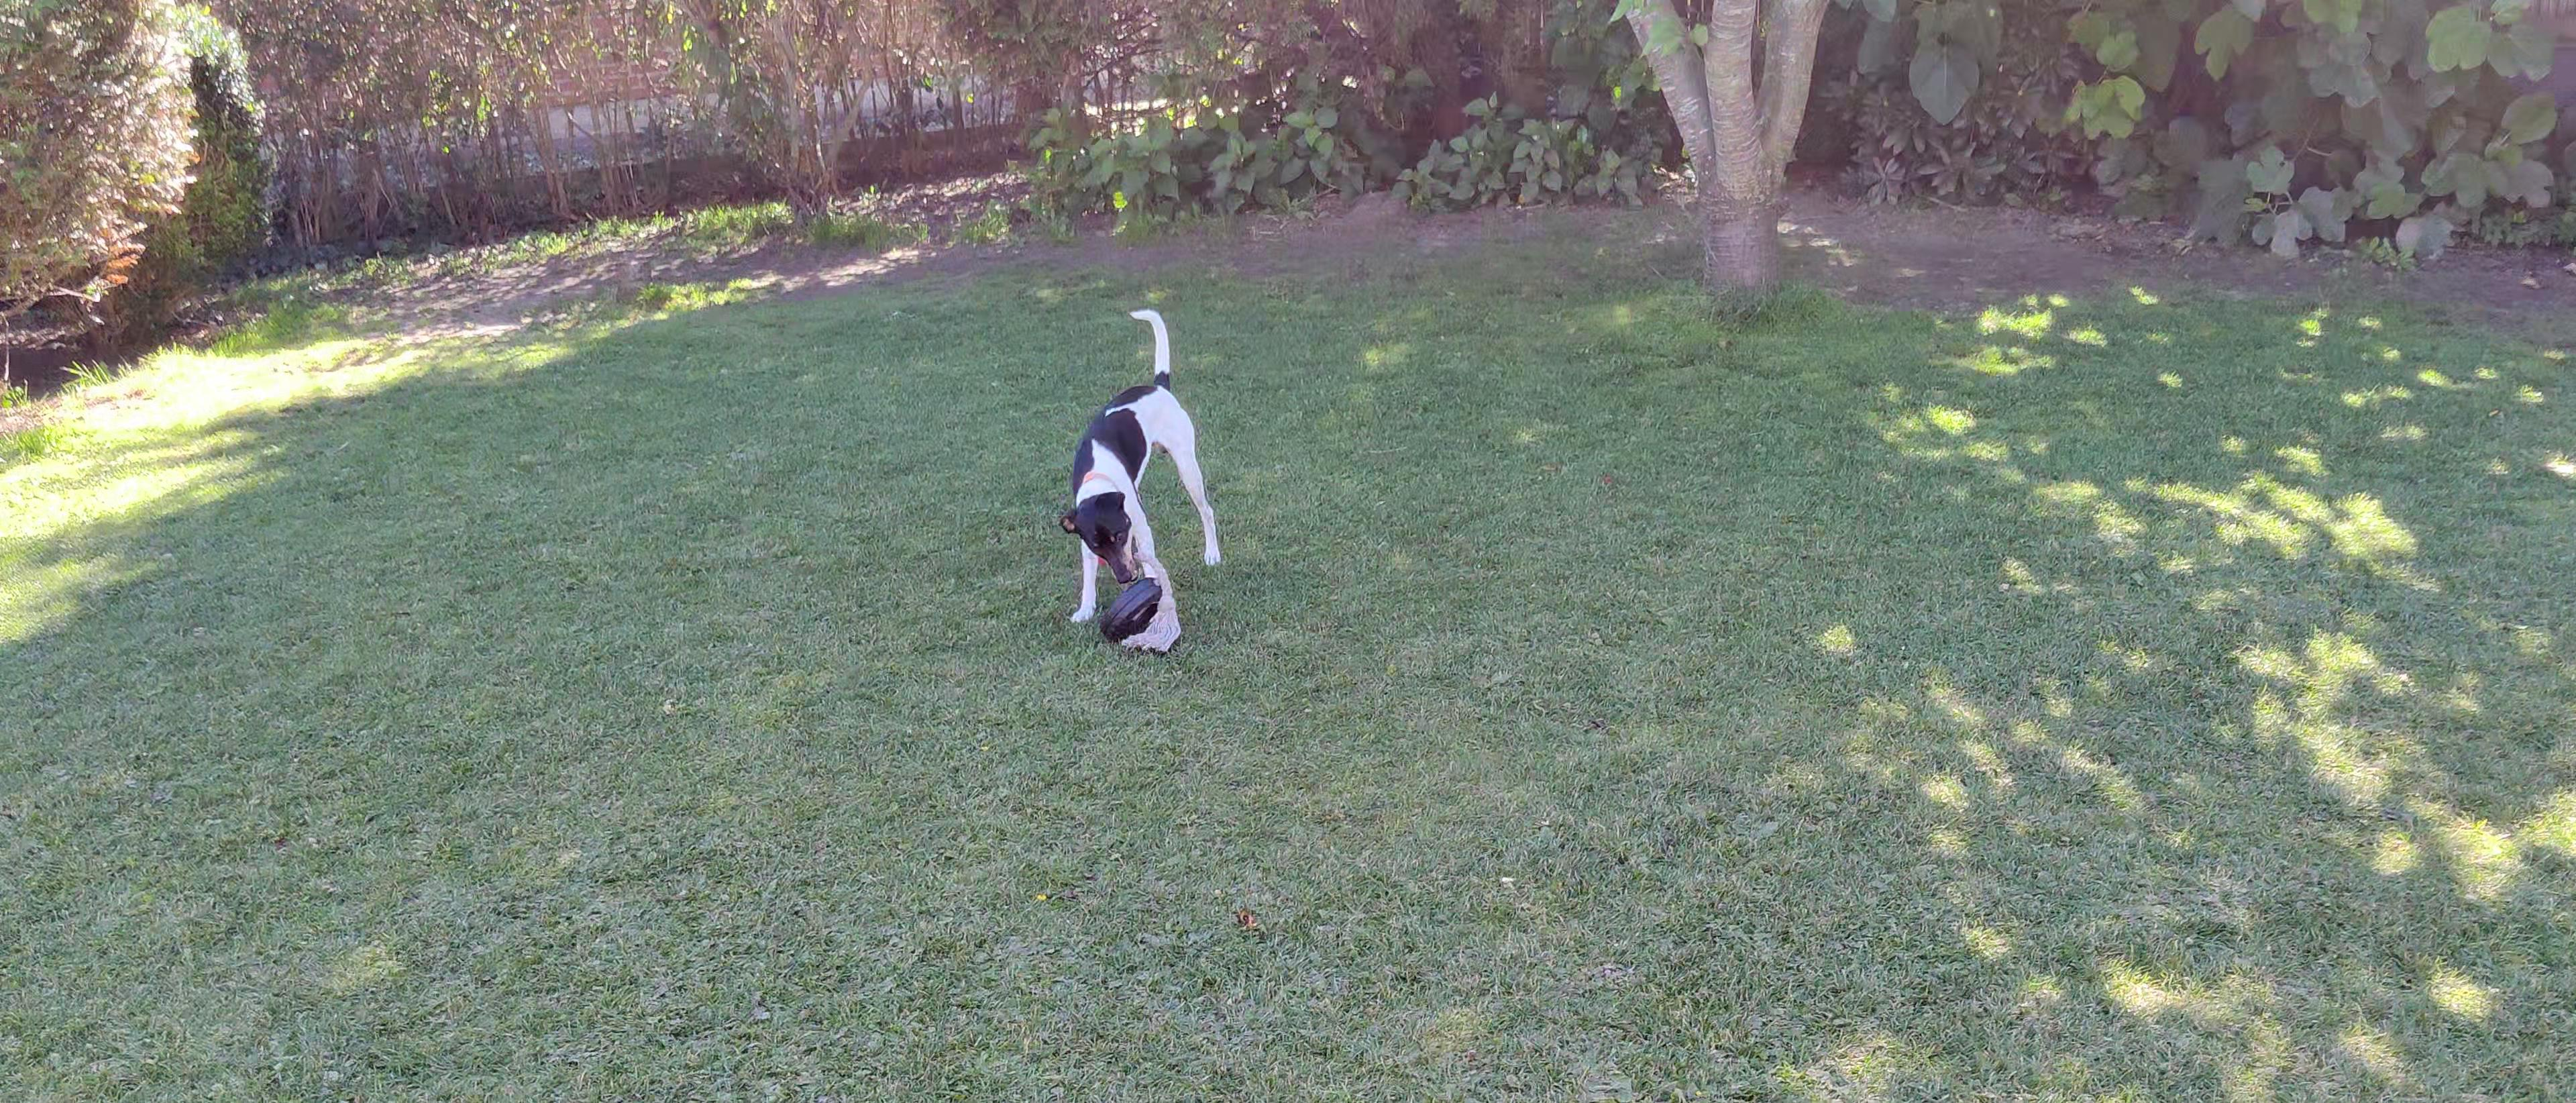Dog: (1055, 302, 1229, 625)
